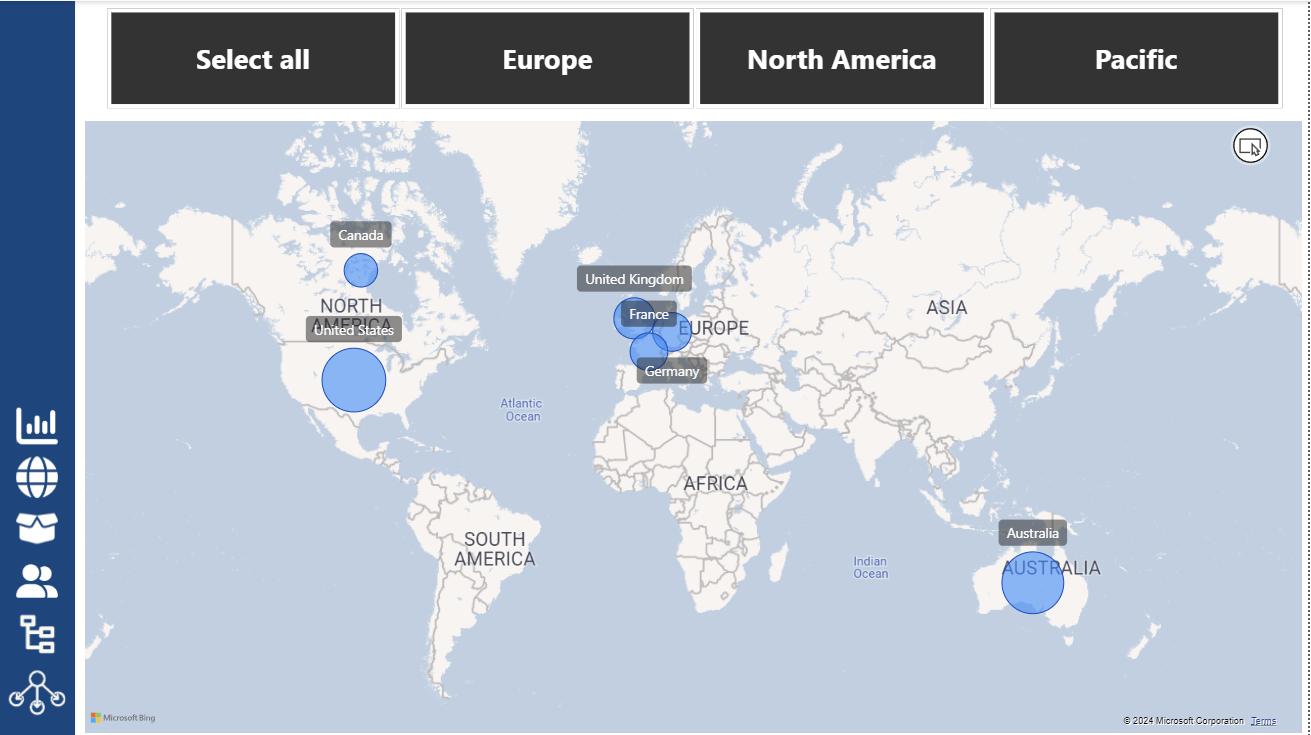

The page's visual inventory and layout, read from the dashboard file:
{"tool":"powerbi","page":{"name":"Map","canvas":[1280,720],"ordinal":1},"visuals":[{"type":"shape","title":"Map Nav Background","box":[0,0,74.6,720],"z":0},{"type":"actionButton","box":[0,391.3,74.6,48.9],"z":0,"group":"g1"},{"type":"map","fields":{"Category":["Territory Lookup.Country"],"Size":["Measure Table.TotalRevenue"]},"box":[80,112,1200,608],"z":1000},{"type":"actionButton","box":[0,441.7,74.6,48.9],"z":1000,"group":"g1"},{"type":"slicer","fields":{"Values":["Territory Lookup.Continent"]},"box":[80,0,1200,112],"z":2000},{"type":"actionButton","box":[0,492.1,74.6,48.9],"z":2000,"group":"g1"},{"type":"actionButton","box":[0,592.8,74.6,52.6],"z":3000,"group":"g1"},{"type":"group","id":"g1","title":"Group 1","box":[0,391.3,74.6,319.2],"z":3001},{"type":"actionButton","box":[0,646.9,74.6,63.6],"z":4000,"group":"g1"},{"type":"actionButton","box":[0,542.4,74.6,48.9],"z":5000,"group":"g1"}]}

Visuals, with their boxes on the page's 1280x720 design canvas (x1, y1, x2, y2). These are canvas units, not pixel positions in the 1311x735 screenshot, which may show the page scaled, cropped or inside an application window:
"Map Nav Background" shape: BBox(0, 0, 75, 720)
actionButton: BBox(0, 391, 75, 440)
map - Territory Lookup.Country x Measure Table.TotalRevenue: BBox(80, 112, 1280, 720)
actionButton: BBox(0, 442, 75, 491)
slicer - Territory Lookup.Continent: BBox(80, 0, 1280, 112)
actionButton: BBox(0, 492, 75, 541)
actionButton: BBox(0, 593, 75, 645)
"Group 1" group: BBox(0, 391, 75, 710)
actionButton: BBox(0, 647, 75, 710)
actionButton: BBox(0, 542, 75, 591)
